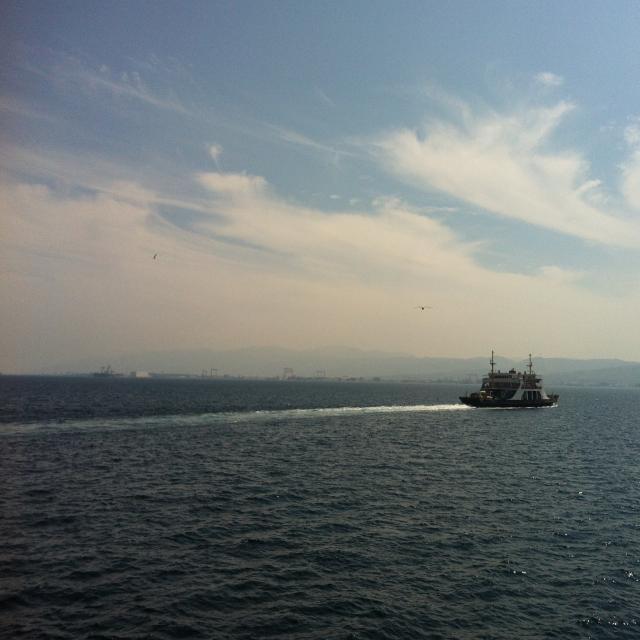houseboat: (463, 352, 562, 412)
